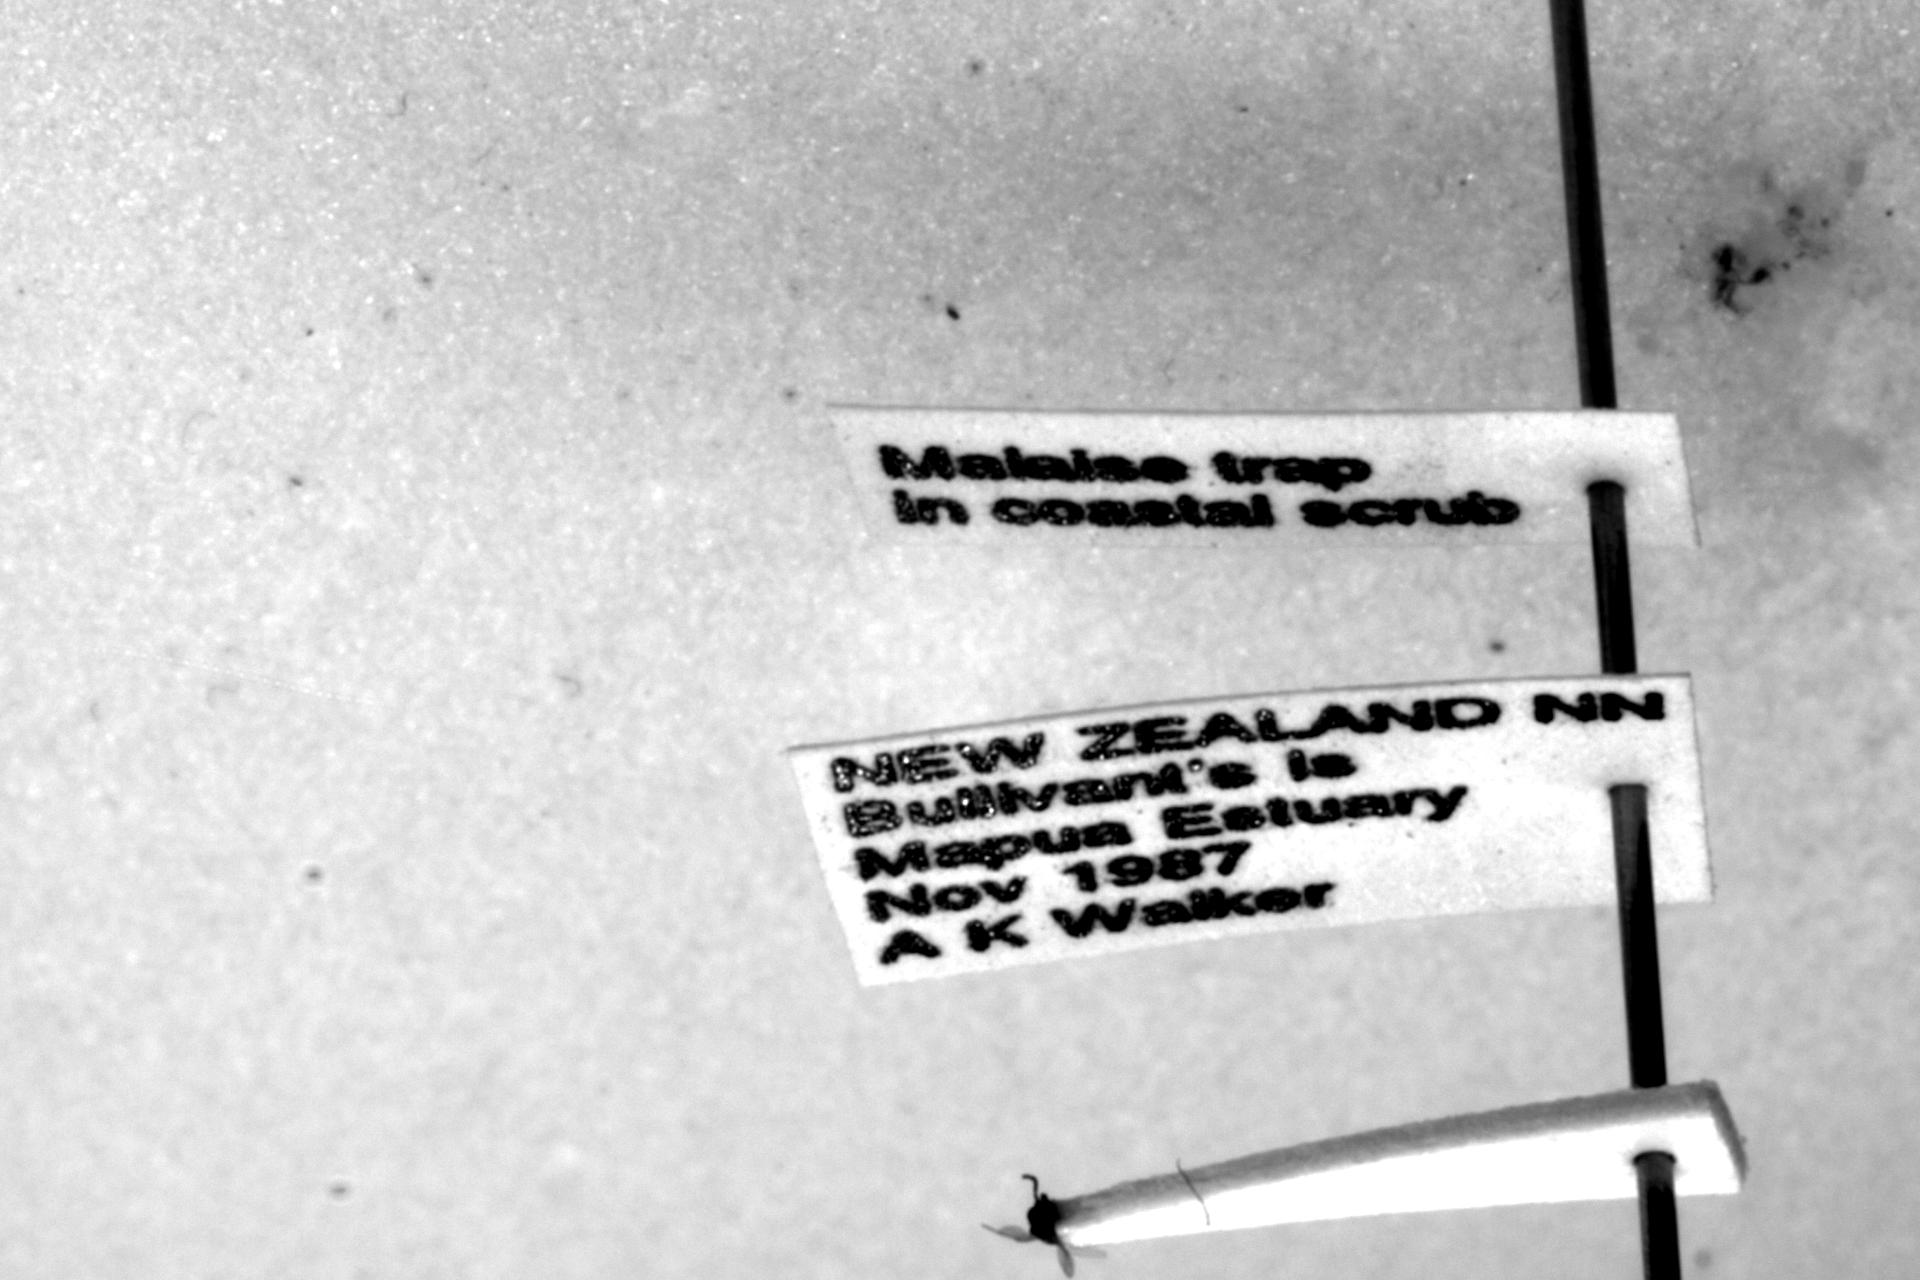typed_label: (791, 674, 1710, 986), (829, 406, 1699, 547)
